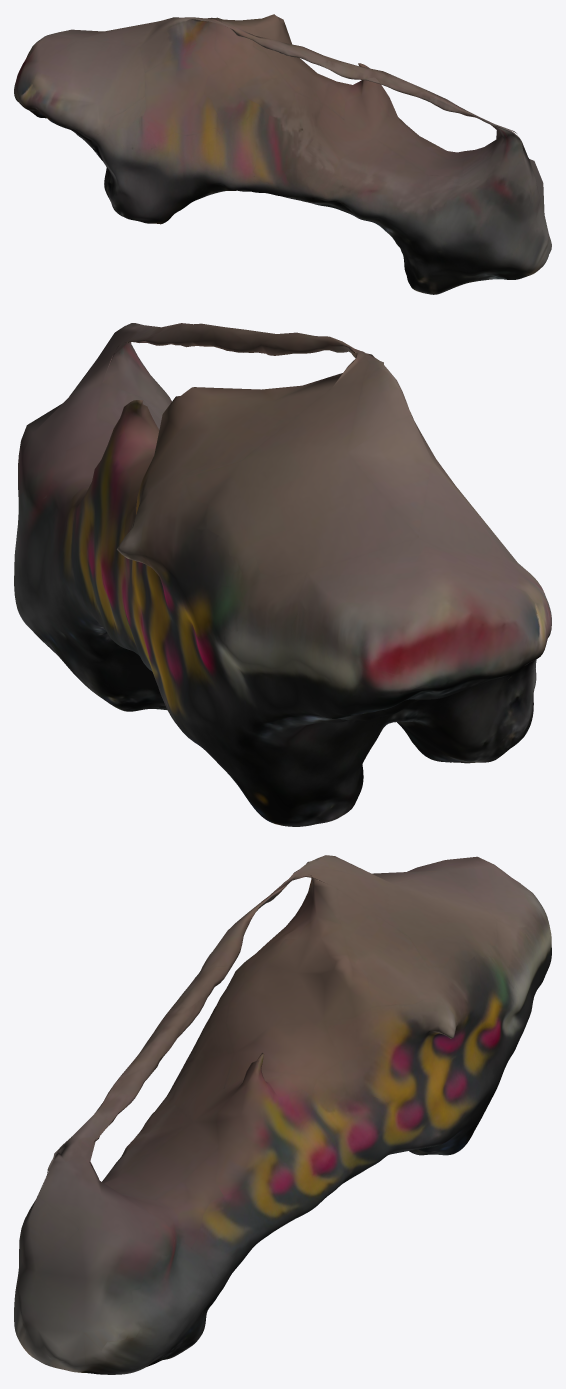
3 renders of one model, top to bottom at view 1: azimuth 30°, elevation 25°; view 2: azimuth 150°, elevation 25°; view 3: azimuth 270°, elevation 25°, orthographic. The views are drawn at different scales.
Size of the model in its own units: 0.6885 by 0.4406 by 0.5794.
1 material, 1 textured.
